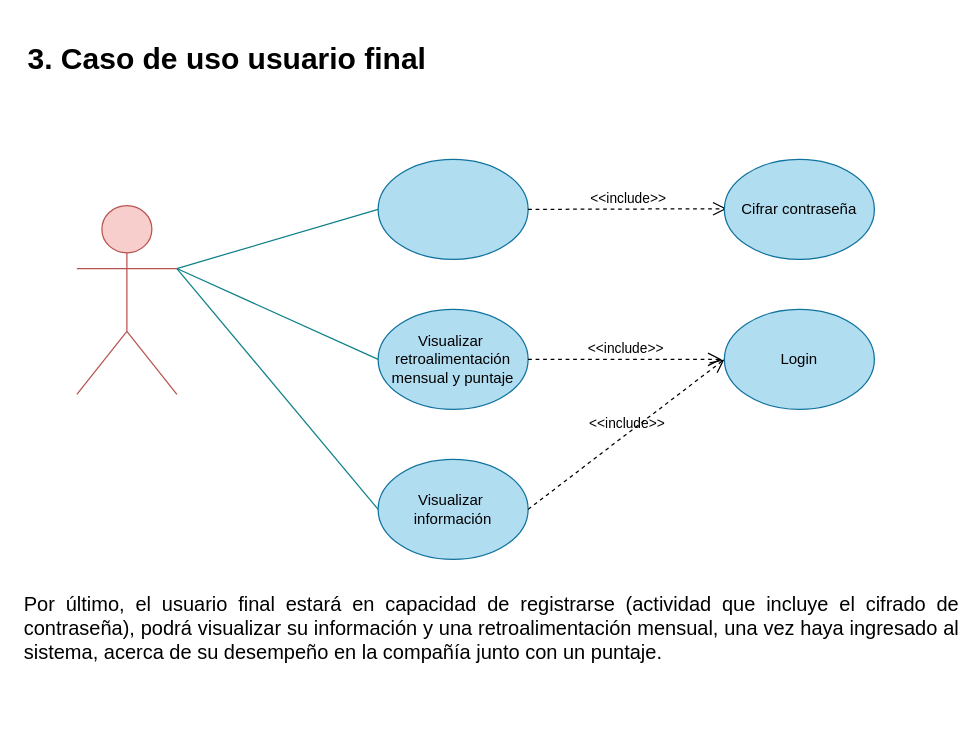
Some shapes in this 980 by 730 pixel diagram are drawn without their labels. The centre of each missing label's shape, as x and y in pixels:
"Registro" belongs at (x=452, y=208).
"Usuario final" belongs at (x=126, y=299).
